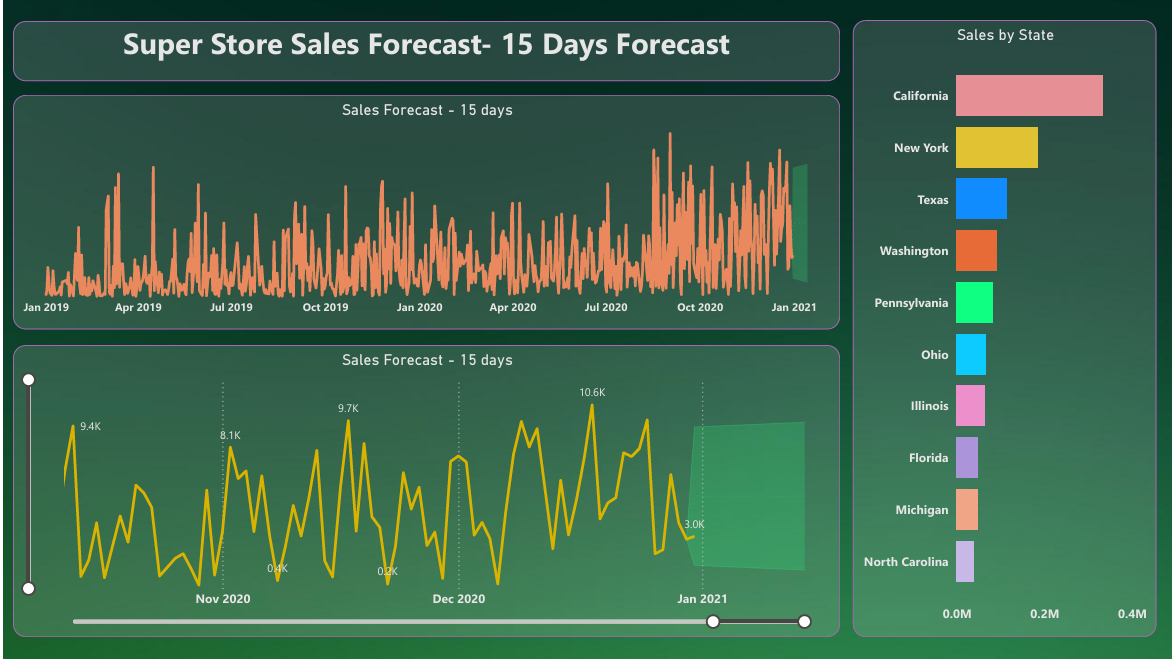

The page's visual inventory and layout, read from the dashboard file:
{"tool":"powerbi","page":{"name":"Page 2","canvas":[1280,720],"ordinal":1},"visuals":[{"type":"lineChart","title":"Sales Forecast - 15 days","fields":{"Category":["SuperStore_Sales_Dataset (2).Order Date"],"Y":["Sum(SuperStore_Sales_Dataset (2).Sales)"]},"box":[10,102.9,907.1,257.1],"z":0},{"type":"lineChart","title":"Sales Forecast - 15 days","fields":{"Category":["SuperStore_Sales_Dataset (2).Order Date"],"Y":["Sum(SuperStore_Sales_Dataset (2).Sales)"]},"box":[10,377.1,907.1,320],"z":1000},{"type":"clusteredBarChart","title":"Sales by State","fields":{"Category":["SuperStore_Sales_Dataset (2).State"],"Y":["Sum(SuperStore_Sales_Dataset (2).Sales)"]},"box":[931.4,21.4,332.9,675.7],"z":2000},{"type":"textbox","box":[9.7,21.7,907.2,66.4],"z":3000}]}

Visuals, with their boxes in screenshot pixels (x1, y1, x2, y2), scaled from the page's 1280x720 canvas onto the 1175x660 screenshot:
"Sales Forecast - 15 days" lineChart: Rect(9, 94, 842, 330)
"Sales Forecast - 15 days" lineChart: Rect(9, 346, 842, 639)
"Sales by State" clusteredBarChart: Rect(855, 20, 1161, 639)
textbox: Rect(9, 20, 842, 81)
